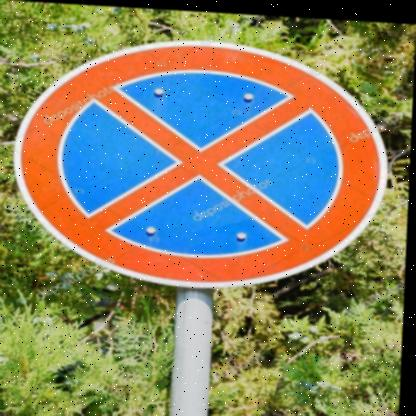No stopping: (9, 22, 392, 298)
